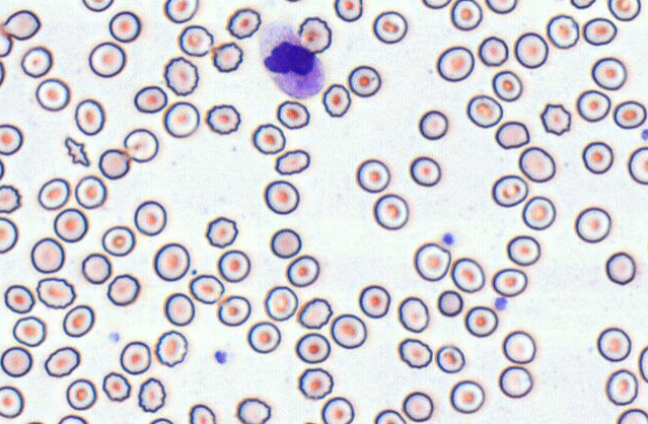MONO: (259, 21, 325, 98)
PLT: (442, 230, 457, 245), (214, 350, 228, 365), (495, 296, 509, 310), (640, 128, 648, 142)
RBC: (152, 242, 190, 281), (413, 242, 450, 281), (163, 56, 199, 96), (162, 101, 200, 138), (574, 206, 611, 243), (88, 41, 126, 77), (436, 45, 474, 81), (35, 276, 76, 309), (518, 146, 555, 182), (330, 313, 367, 349), (373, 193, 408, 230), (30, 237, 65, 273), (263, 285, 298, 321), (263, 179, 299, 214), (450, 257, 485, 293), (596, 326, 631, 362), (154, 330, 188, 367), (297, 16, 331, 53), (466, 94, 503, 128), (514, 31, 548, 68), (53, 207, 88, 242), (123, 127, 158, 162), (355, 158, 390, 193), (491, 174, 528, 207), (605, 368, 638, 405), (449, 379, 484, 413), (521, 195, 555, 230), (591, 56, 626, 90), (297, 367, 333, 400), (133, 200, 166, 236), (3, 9, 41, 40), (501, 330, 535, 364), (372, 10, 407, 43), (74, 174, 107, 209), (35, 78, 70, 111), (177, 24, 213, 56), (397, 296, 429, 332), (74, 98, 105, 135), (106, 273, 140, 306), (498, 365, 532, 398), (285, 254, 319, 287), (546, 14, 579, 48), (576, 89, 610, 122), (297, 297, 332, 329), (226, 7, 261, 39), (246, 321, 281, 353), (119, 340, 151, 375), (216, 294, 251, 326), (188, 273, 224, 304), (44, 346, 80, 377), (37, 177, 70, 210), (217, 249, 250, 282), (12, 315, 46, 347), (251, 122, 285, 154), (163, 292, 195, 326), (464, 305, 498, 337), (347, 65, 381, 97), (506, 234, 540, 266), (358, 284, 390, 318), (397, 337, 432, 368), (205, 103, 240, 134), (295, 332, 330, 363), (491, 267, 527, 297), (62, 304, 94, 337), (205, 216, 238, 248), (108, 10, 141, 42), (20, 45, 52, 78), (581, 141, 613, 174), (101, 225, 135, 256), (605, 251, 636, 285), (65, 378, 97, 410), (210, 41, 243, 72), (540, 102, 571, 135), (321, 83, 351, 117), (137, 377, 166, 412), (582, 17, 617, 46), (98, 148, 130, 179), (0, 346, 32, 377), (409, 155, 441, 186), (401, 391, 433, 422), (276, 100, 310, 129), (274, 148, 310, 175), (491, 70, 522, 101), (81, 252, 111, 284), (450, 0, 482, 30), (613, 100, 646, 129), (133, 85, 167, 113), (235, 397, 271, 423), (4, 284, 35, 314), (270, 228, 301, 258), (418, 109, 448, 140), (478, 35, 508, 66), (320, 396, 354, 423), (102, 371, 131, 402), (435, 344, 465, 373), (163, 0, 198, 23), (0, 385, 24, 418), (627, 146, 647, 184), (0, 123, 23, 155), (437, 289, 463, 317), (607, 0, 641, 21), (0, 216, 18, 253), (334, 0, 362, 22), (0, 184, 21, 213), (188, 403, 216, 423), (373, 408, 406, 423), (615, 408, 647, 423), (485, 0, 517, 14), (81, 0, 114, 12), (638, 345, 647, 382), (0, 30, 12, 57), (421, 0, 451, 9), (57, 414, 87, 423), (570, 0, 595, 9), (148, 417, 173, 423), (0, 59, 5, 86), (0, 157, 5, 180), (21, 420, 45, 424), (283, 0, 303, 3)
Schistocyte: (63, 137, 89, 167)
